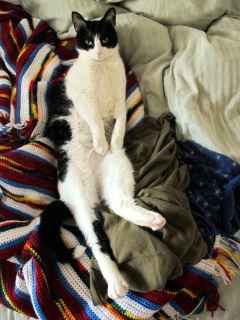Cat: (30, 6, 164, 301)
